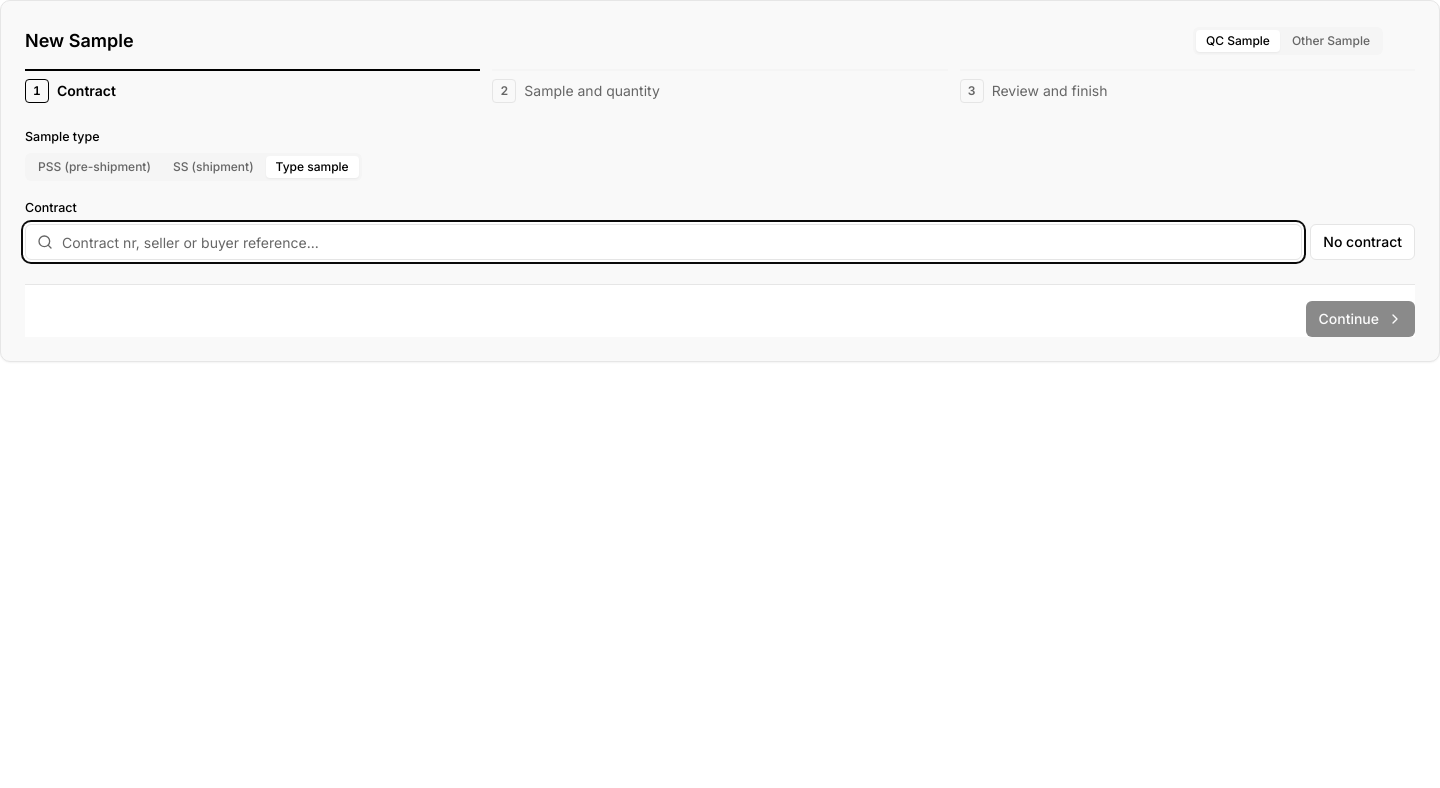
Test case: SampleIntakeForm from the keyboard › a Continue pressed too early names what is missing and goes to the first of it
Step 1. Click the button "No contract" → (1363, 242), box [1310, 224, 1415, 260]
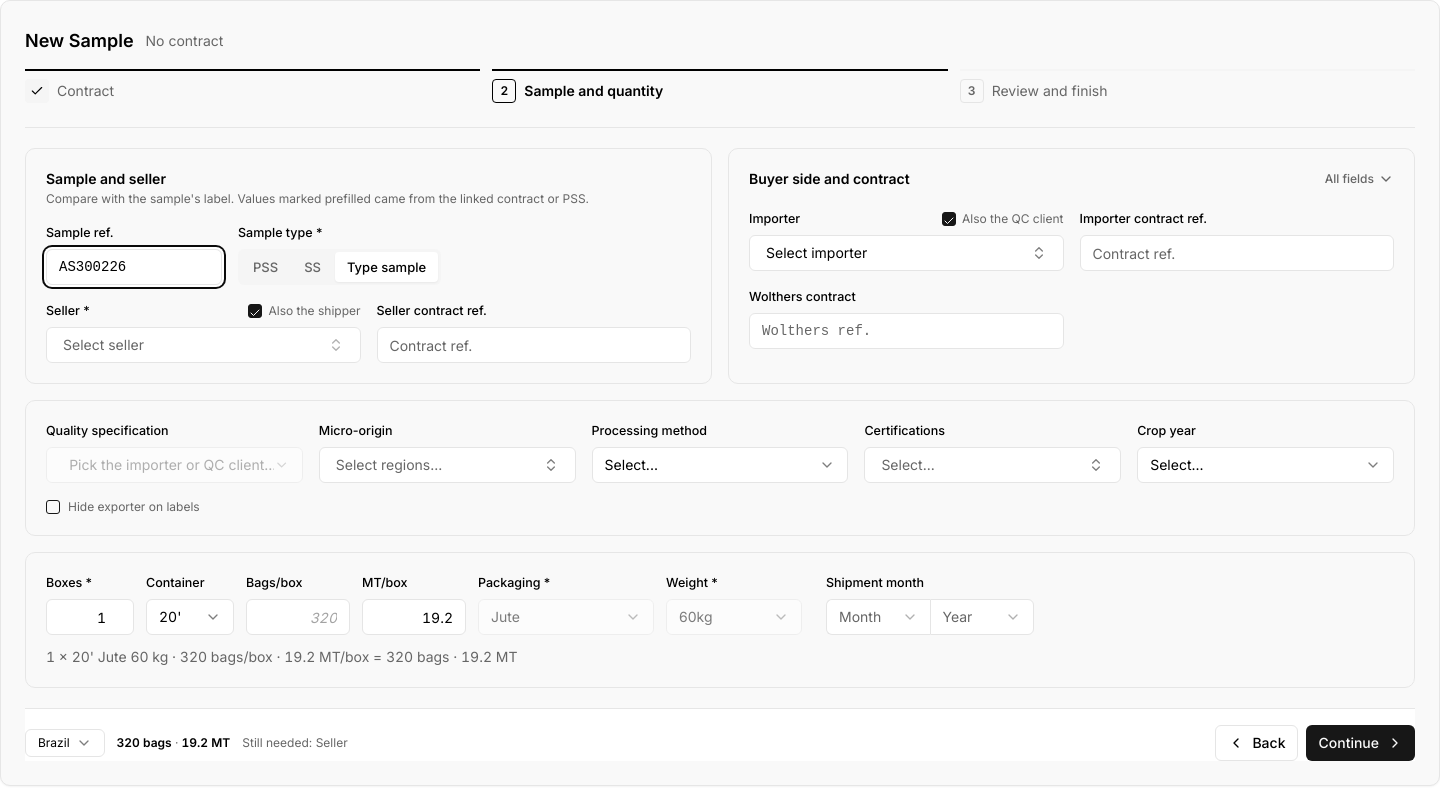
Expected: the button with test id "step-issues" reads "Still needed: Seller", [242, 735, 348, 751]
Step 2. Click the button "Continue" → (1361, 743), box [1306, 725, 1415, 761]
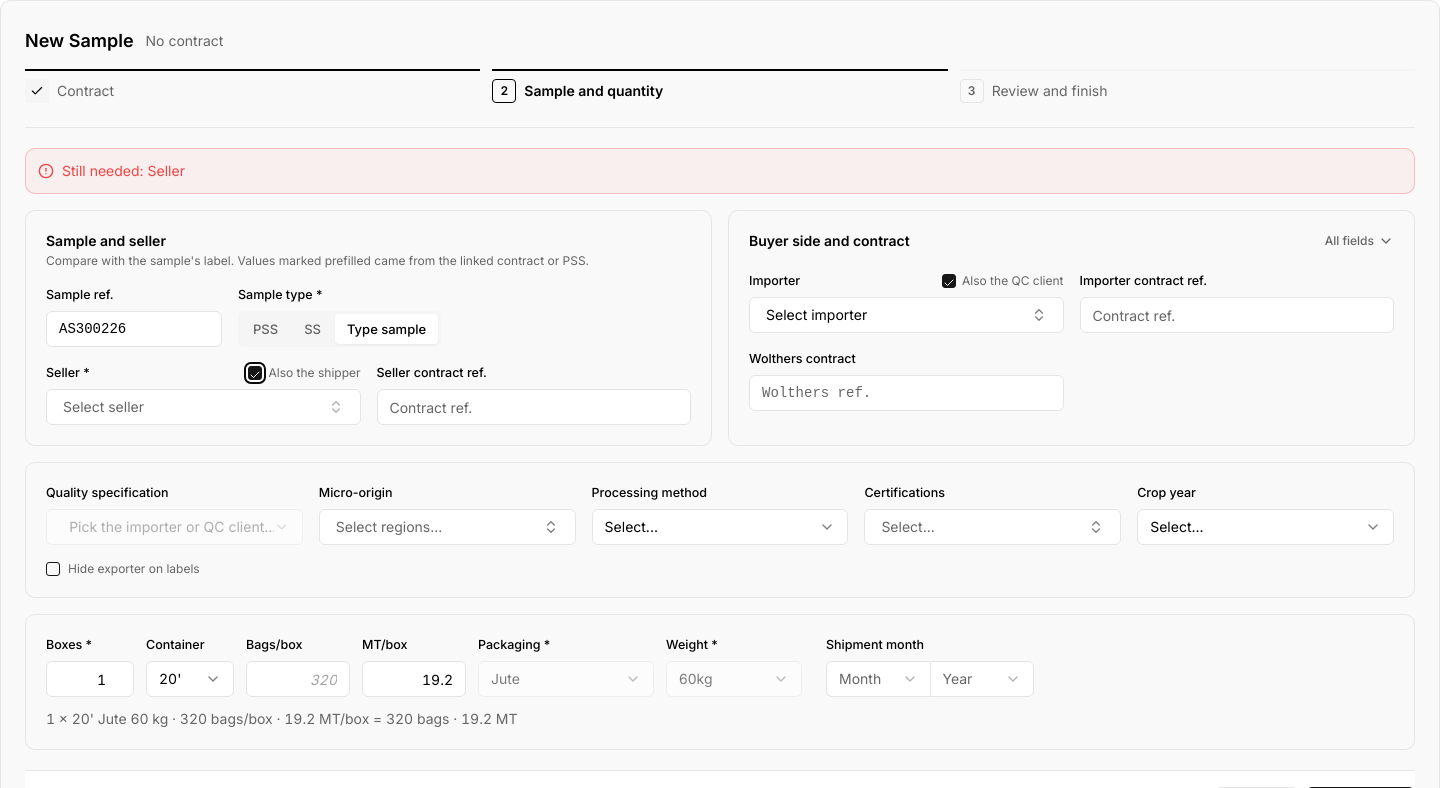
Expected: the message reads "Still needed: Seller", [62, 162, 185, 179]
